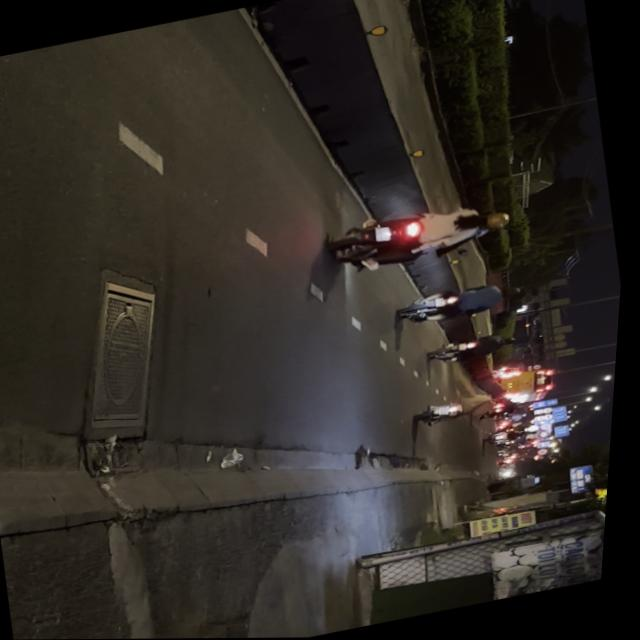helmet: (484, 208, 516, 230)
licenseplate: (327, 190, 521, 278)
nohelmet: (379, 224, 397, 241)
